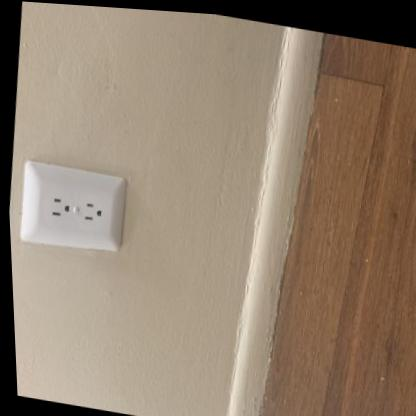OUTLET: (13, 155, 130, 258)
